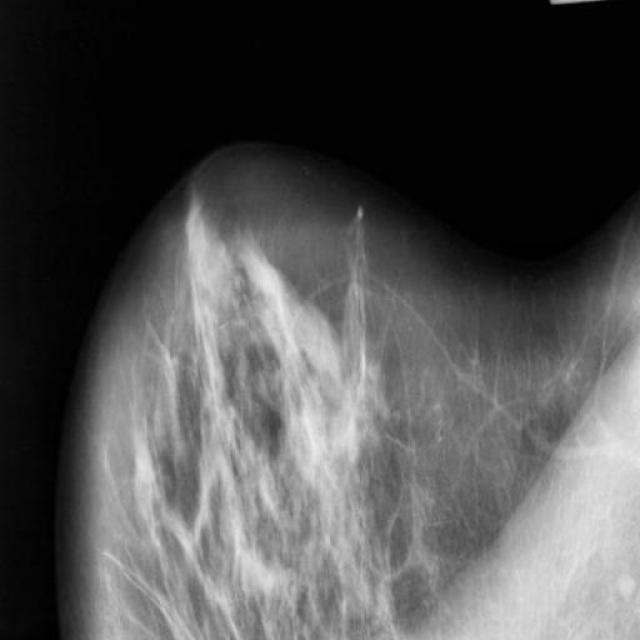cancer: (343, 240, 385, 335)
